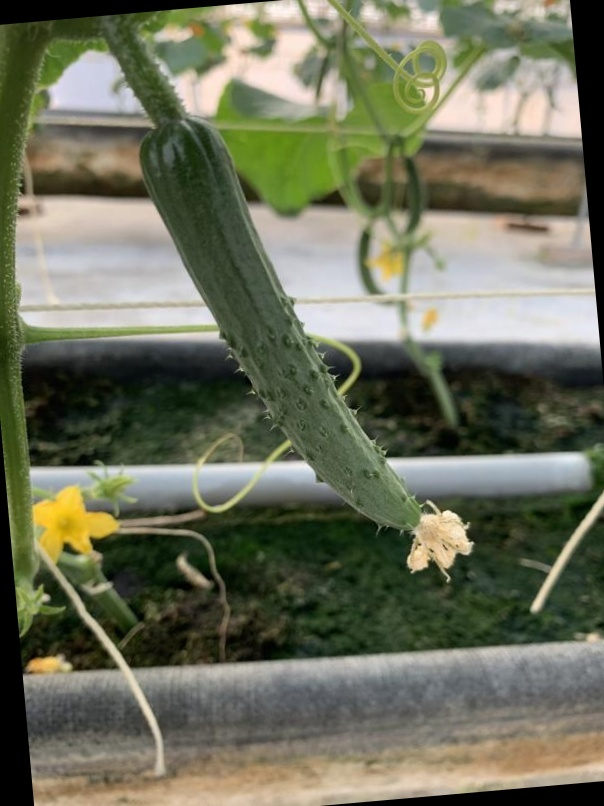growth: (114, 85, 444, 591)
